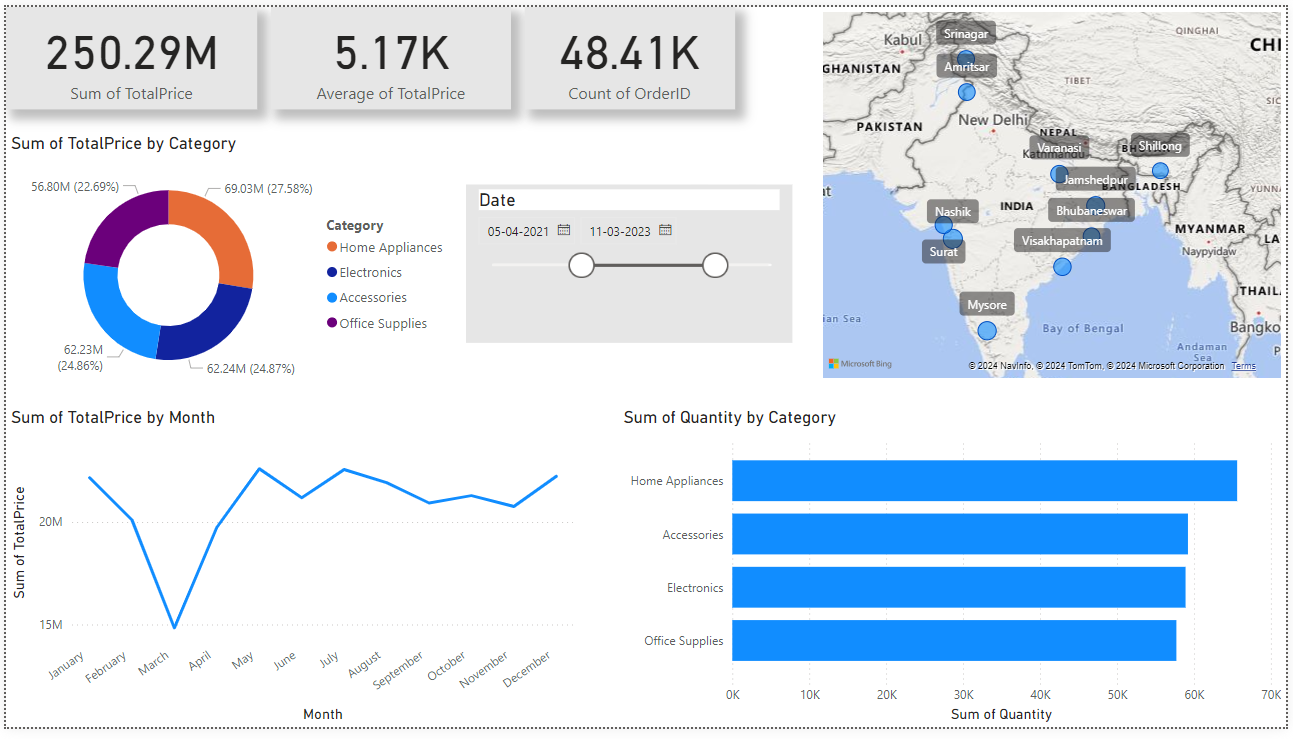

What the dashboard file says about the page in this screenshot:
{"tool":"powerbi","page":{"name":"Page 1","canvas":[1280,720],"ordinal":0},"visuals":[{"type":"donutChart","fields":{"Category":["Products_new.Category"],"Y":["Sum(Orders_new.TotalPrice)"]},"box":[0,126.2,451.2,265],"z":0},{"type":"lineChart","fields":{"Category":["Orders_new.OrderDate.Variation.Date Hierarchy.Month"],"Y":["Sum(Orders_new.TotalPrice)"]},"box":[0,400,572.5,320],"z":1000},{"type":"slicer","fields":{"Values":["Orders_new.OrderDate"]},"box":[460,177.5,326.2,158.8],"z":2000},{"type":"barChart","fields":{"Category":["Products_new.Category"],"Y":["Sum(Orders_new.Quantity)"]},"box":[612.5,400,667.5,320],"z":3000},{"type":"map","fields":{"Size":["Orders_new.TotalPurchases"],"Category":["Customers_new.City"]},"box":[812.5,0,467.5,376.2],"z":4000},{"type":"card","title":"Total Sales","fields":{"Values":["Sum(Orders_new.TotalPrice)"]},"box":[0,0,251.2,102.5],"z":5000},{"type":"card","title":"Total Sales","fields":{"Values":["Avg(Orders_new.TotalPrice)"]},"box":[265,0,240,102.5],"z":5001},{"type":"card","title":"Total Sales","fields":{"Values":["CountNonNull(Orders_new.OrderID)"]},"box":[518.8,0,210,102.5],"z":5002}]}

Visuals, with their boxes in screenshot pixels (x1, y1, x2, y2), scaled from the page's 1280x720 canvas onto the 1293x739 screenshot:
donutChart - Products_new.Category x Sum(Orders_new.TotalPrice): [0,130,456,402]
lineChart - Orders_new.OrderDate.Variation.Date Hierarchy.Month x Sum(Orders_new.TotalPrice): [0,411,578,738]
slicer - Orders_new.OrderDate: [465,182,794,345]
barChart - Products_new.Category x Sum(Orders_new.Quantity): [619,411,1292,738]
map - Orders_new.TotalPurchases x Customers_new.City: [821,0,1292,386]
"Total Sales" card: [0,0,254,105]
"Total Sales" card: [268,0,510,105]
"Total Sales" card: [524,0,736,105]
